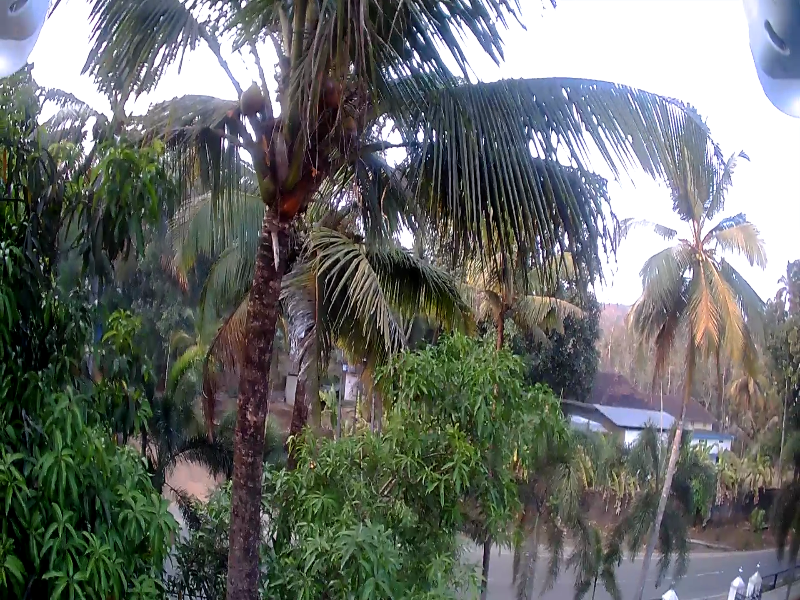coconut: (239, 83, 271, 121), (342, 112, 357, 135)
